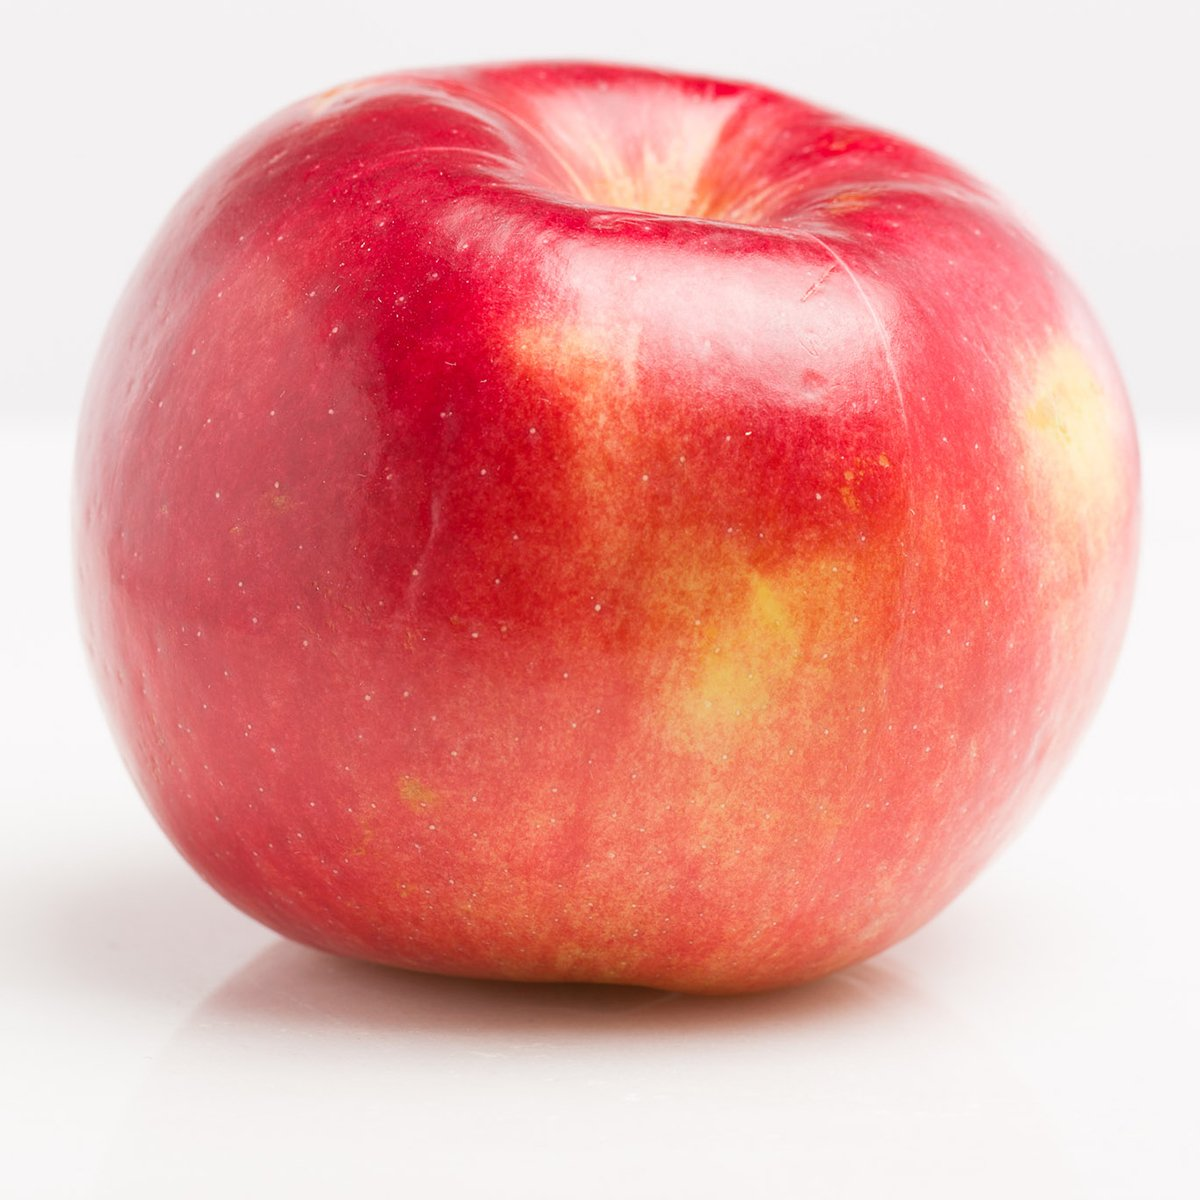apple: (71, 57, 1142, 998)
